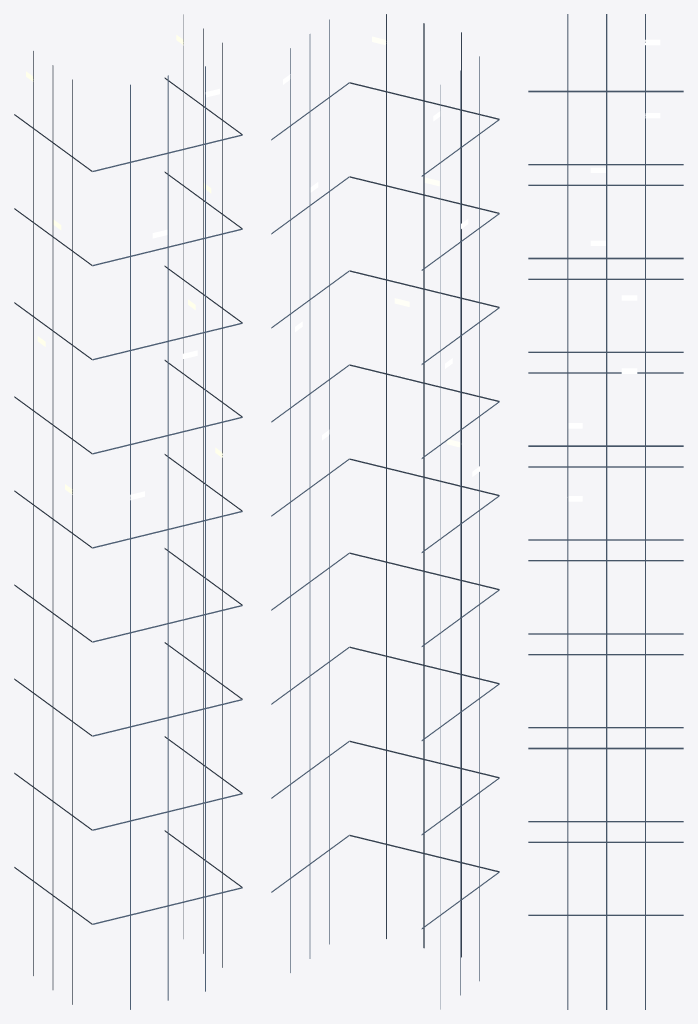
File: SM_MM_W04_Facade.fbx
The picture shows the model from 3 angles, left to right: view 1: azimuth 30°, elevation 25°; view 2: azimuth 150°, elevation 25°; view 3: azimuth 270°, elevation 25°; orthographic projection.
Visible parts, largest first — view 1: SM_MM_W04_Facade; view 2: SM_MM_W04_Facade; view 3: SM_MM_W04_Facade.
Boxes of the visible parts, left/top/right/bottom form: SM_MM_W04_Facade: left=14, top=14, right=242, bottom=1009; SM_MM_W04_Facade: left=271, top=14, right=499, bottom=1009; SM_MM_W04_Facade: left=528, top=14, right=683, bottom=1009.
Bounding box in the file's own units: 20.05 × 18.03 × 118.
